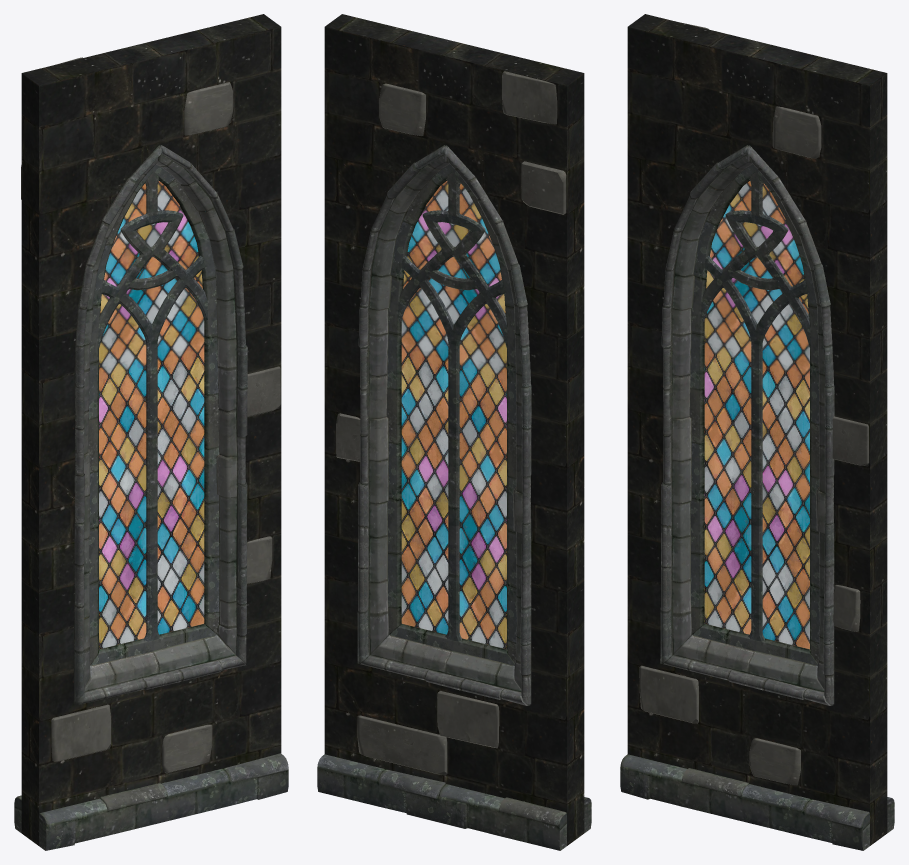
3 views of the same model, side by side, from view 1: azimuth 30°, elevation 25°; view 2: azimuth 150°, elevation 25°; view 3: azimuth 330°, elevation 25° (orthographic).
Visible parts, largest first — view 1: SM_DeathTemple_Window_4x12_01_v1_LOD0; view 2: SM_DeathTemple_Window_4x12_01_v1_LOD0; view 3: SM_DeathTemple_Window_4x12_01_v1_LOD0.
Part boxes in pixels (<box>): SM_DeathTemple_Window_4x12_01_v1_LOD0: <box>14,14,288,850</box>; SM_DeathTemple_Window_4x12_01_v1_LOD0: <box>317,14,591,850</box>; SM_DeathTemple_Window_4x12_01_v1_LOD0: <box>620,14,894,850</box>.
Size of the model in its own units: 4 by 12 by 0.9892.
Materials: 4 (4 with a texture image).
